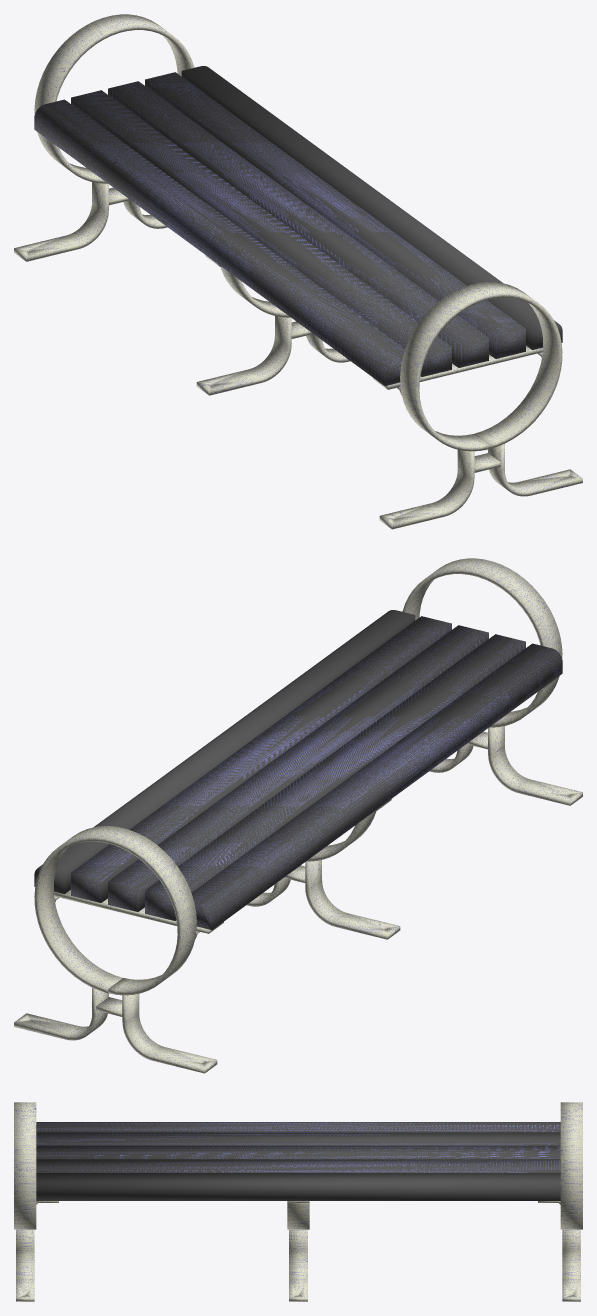
The picture shows the model from 3 angles, top to bottom: view 1: azimuth 30°, elevation 25°; view 2: azimuth 150°, elevation 25°; view 3: azimuth 270°, elevation 25°; orthographic projection. The views are drawn at different scales.
Visible parts, largest first — view 1: SketchUp (×13); view 2: SketchUp (×13); view 3: SketchUp (×11).
Part boxes in pixels (x1=…): SketchUp (×13): x1=14, y1=14, x2=582, y2=529; SketchUp (×13): x1=14, y1=558, x2=582, y2=1073; SketchUp (×11): x1=14, y1=1102, x2=582, y2=1301.
Bounding box in the file's own units: 22 × 76 × 23.35.
